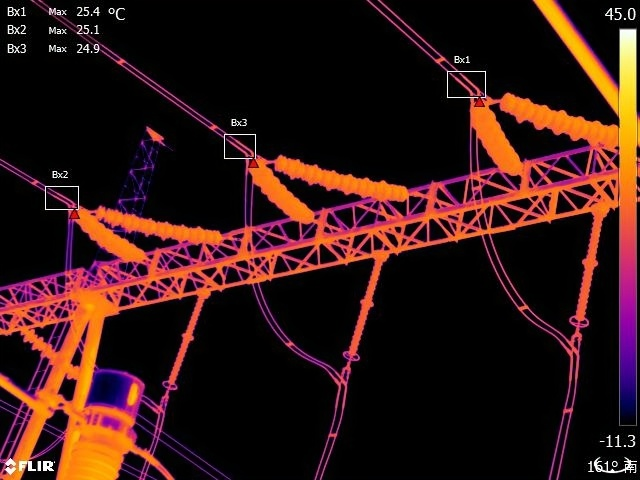clamp: (461, 85, 484, 108), (330, 373, 355, 394), (563, 343, 586, 364), (65, 197, 81, 222), (238, 149, 256, 170), (151, 399, 173, 416)
current transformer: (52, 364, 163, 480)
insulator: (497, 83, 619, 158), (277, 150, 412, 208), (460, 96, 537, 197), (100, 201, 228, 249), (569, 200, 614, 336), (338, 249, 391, 363), (245, 153, 319, 232), (167, 284, 217, 393), (68, 203, 149, 268), (15, 323, 84, 377)
